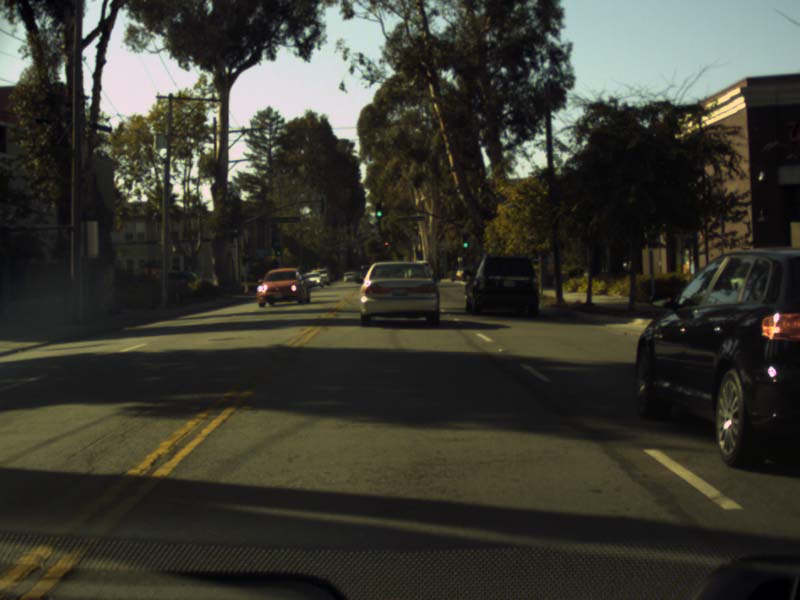Green: (375, 202, 381, 219), (274, 245, 282, 256), (462, 233, 467, 248)
Yellow: (383, 237, 388, 248)
